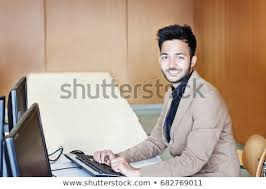Indian_Male: (156, 24, 195, 80)
